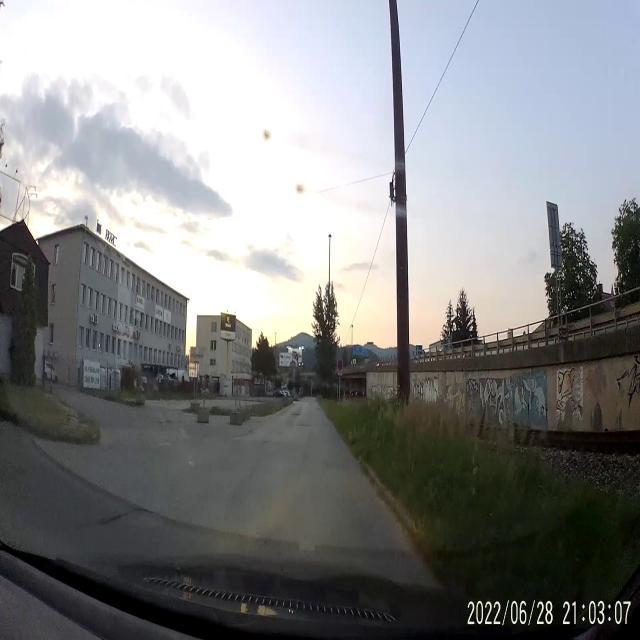Pothole: (104, 504, 150, 524), (296, 421, 309, 428), (291, 413, 300, 417)
